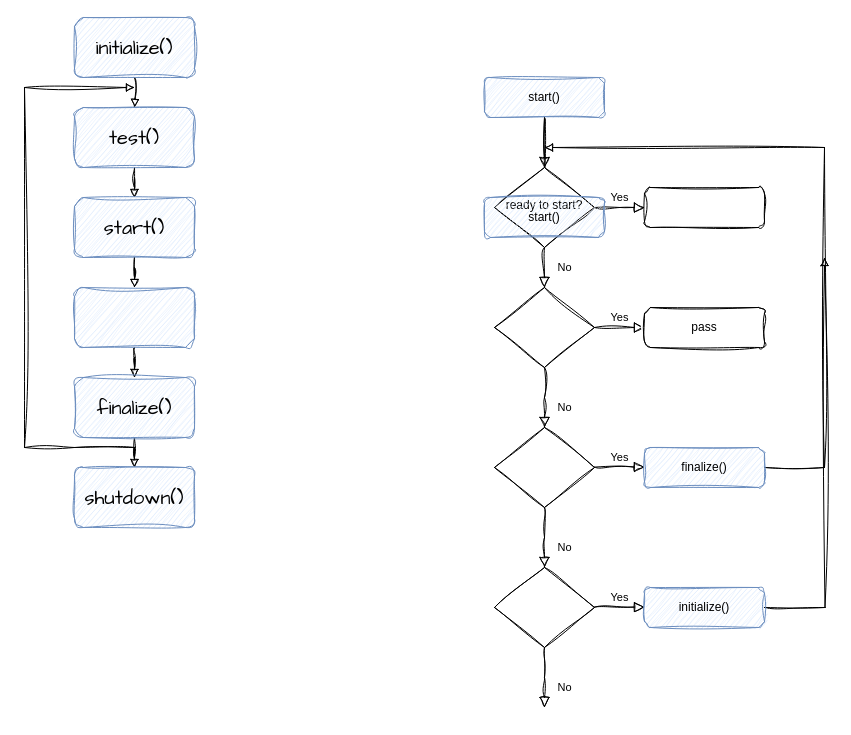
Image size: 851x735. Some labels were removed from this diagram. The shapes that lost their labels are listed below. From the top down, each one's box as (x1, y1, x2, y2) in pixels, then its label:
(644, 186, 764, 228): trigger start
(74, 286, 194, 348): stop()
(494, 286, 594, 368): is started?
(494, 426, 594, 508): supports finalize?
(494, 566, 594, 648): supports initialize?
